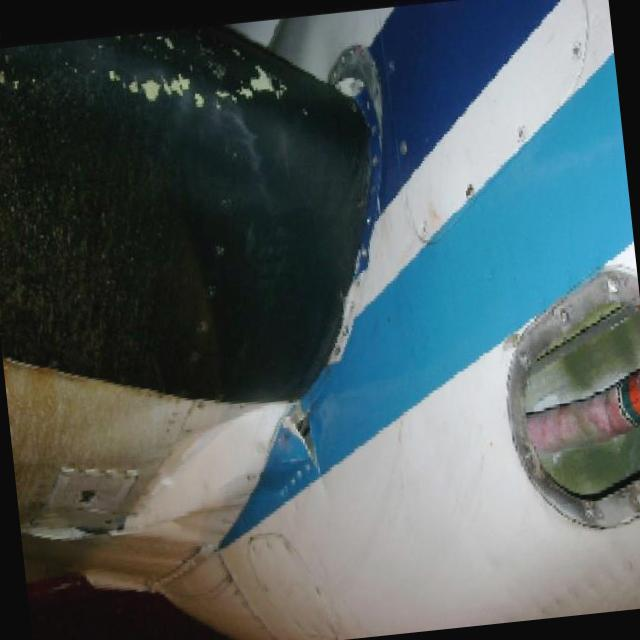crack: (280, 402, 328, 480)
